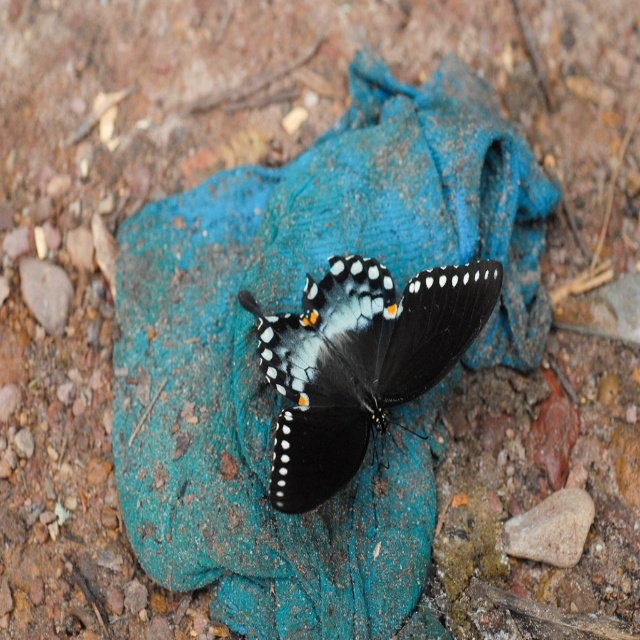Butterfly: (226, 227, 502, 520)
